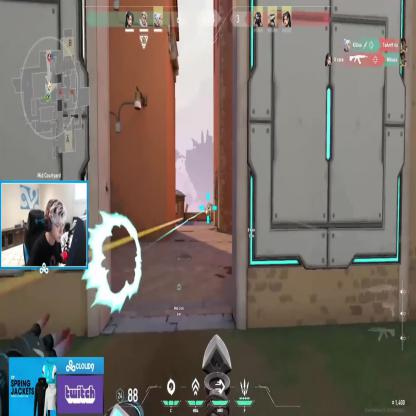enemy: (207, 205, 211, 224)
enemy_head: (208, 205, 210, 209)
